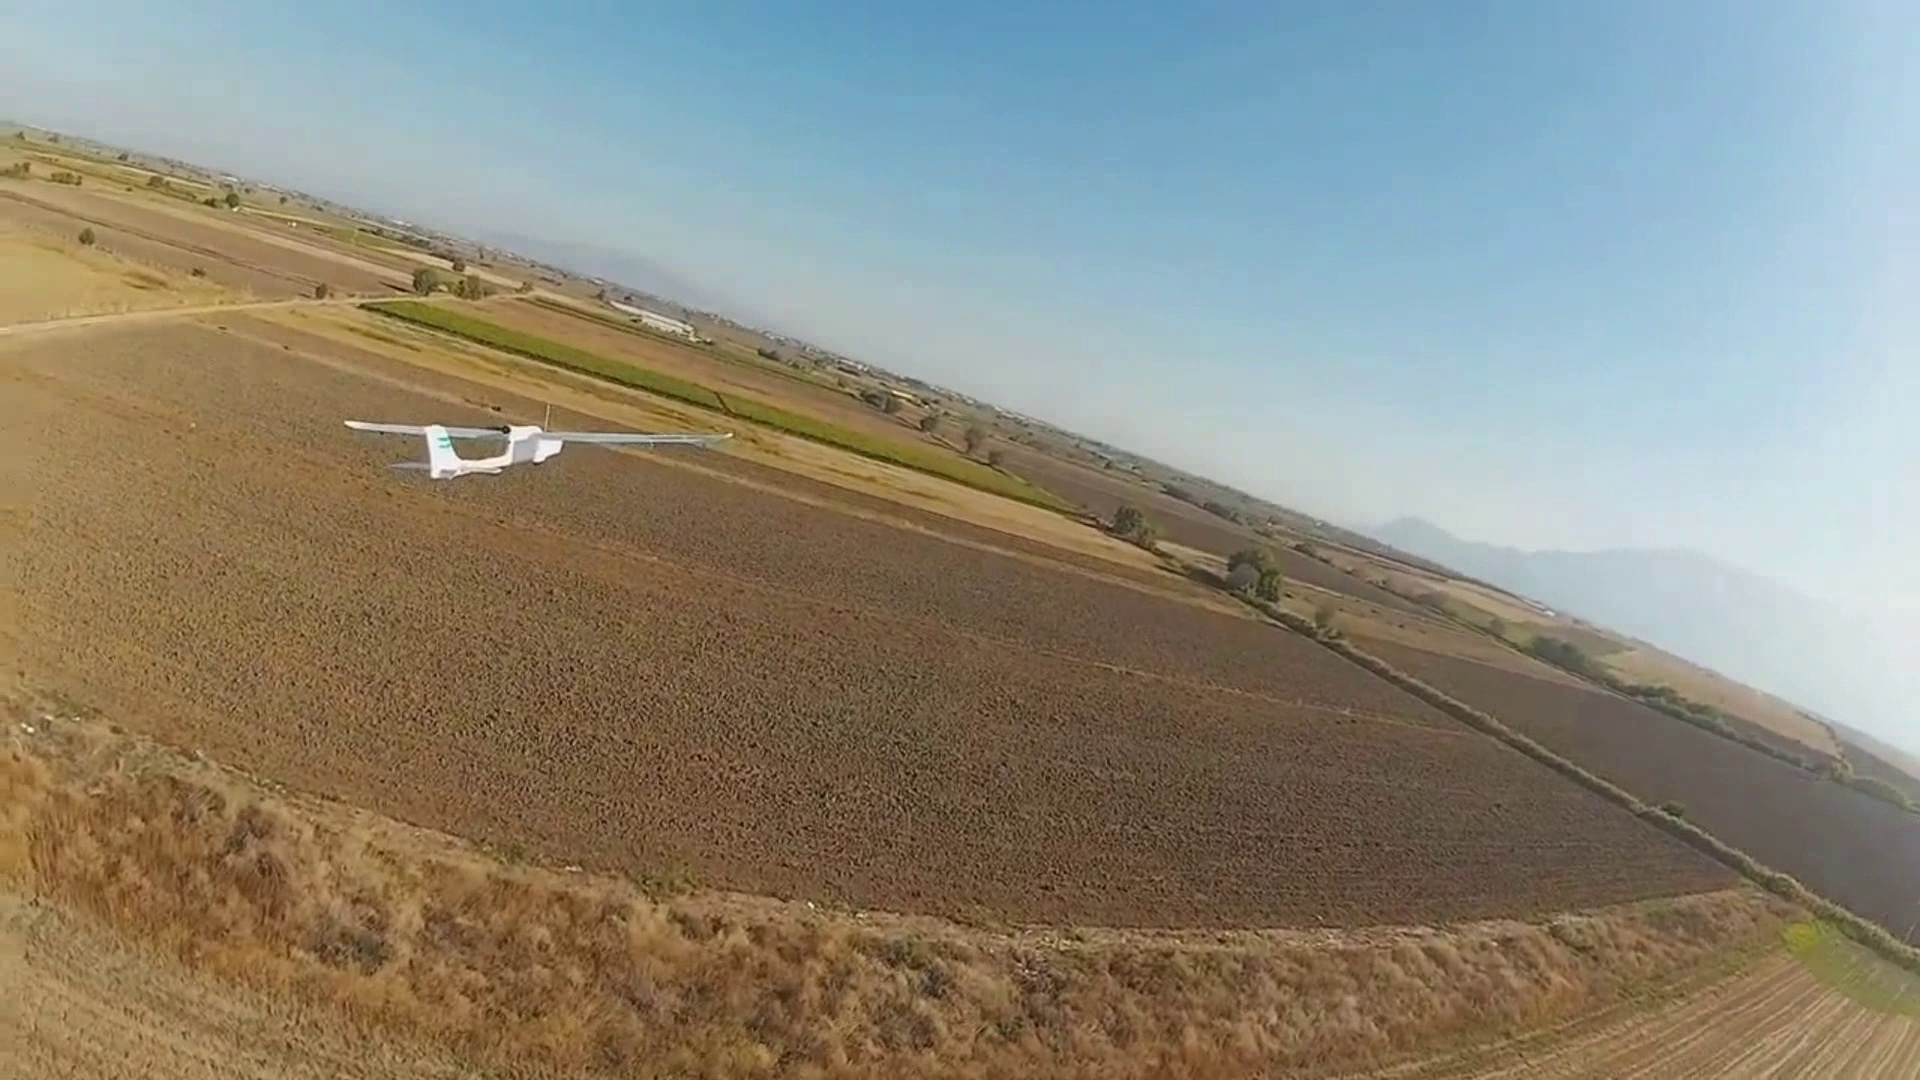airplane: (342, 419, 567, 477)
